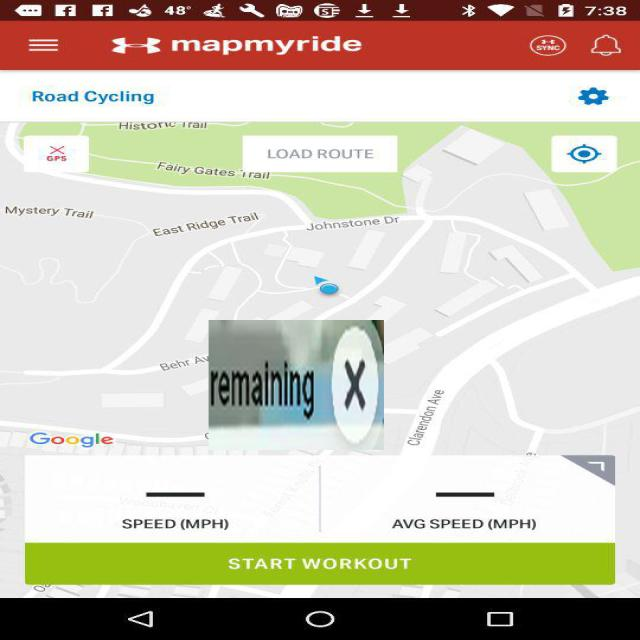misdirection: (209, 320, 384, 450)
